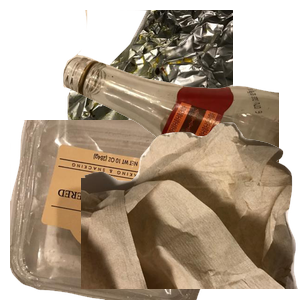glass: (60, 10, 300, 190)
metal: (60, 10, 300, 190)
plastic: (10, 120, 227, 300)
trash: (81, 120, 300, 300)
